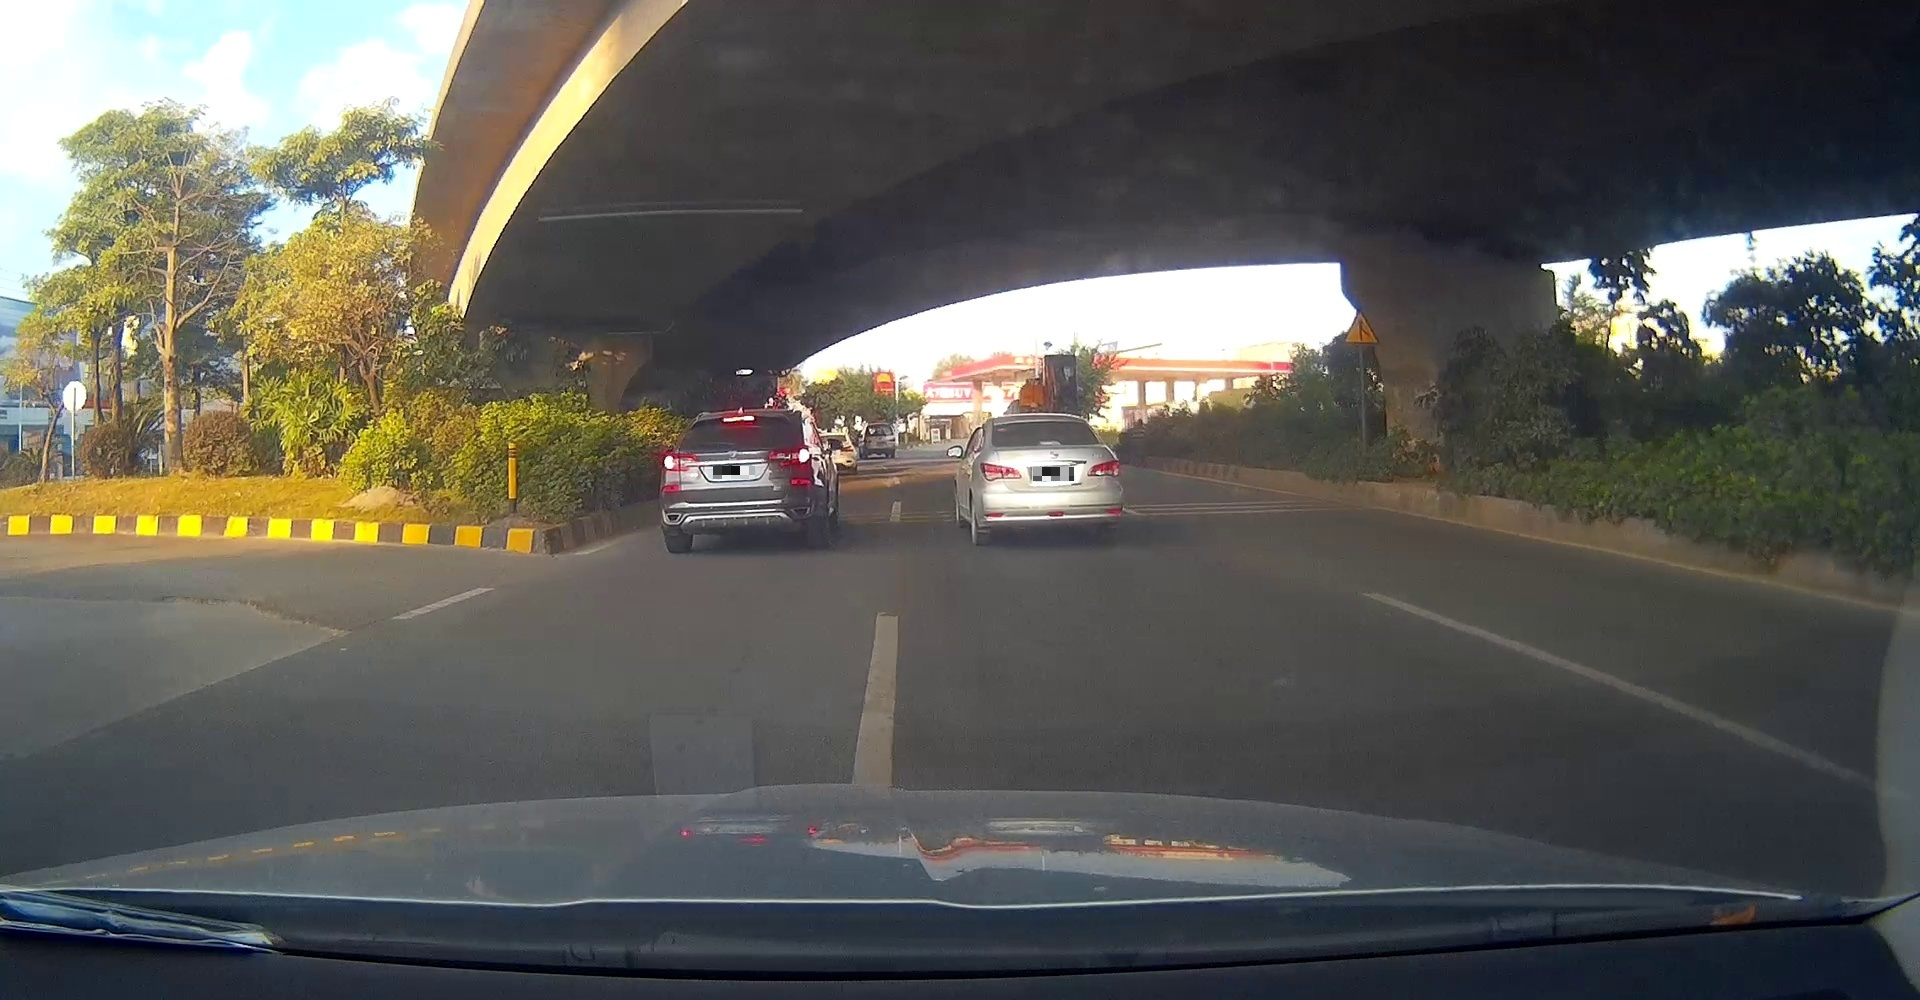L_light: (980, 463, 1022, 482), (663, 453, 698, 472)
R_light: (770, 445, 810, 464), (1087, 459, 1121, 476)
T_light: (723, 415, 756, 423), (1041, 423, 1054, 426)
day-brake: (659, 409, 823, 553)
day-no: (979, 414, 1124, 546)
plate_1: (712, 466, 756, 478)
plate_2: (1032, 467, 1074, 481)
